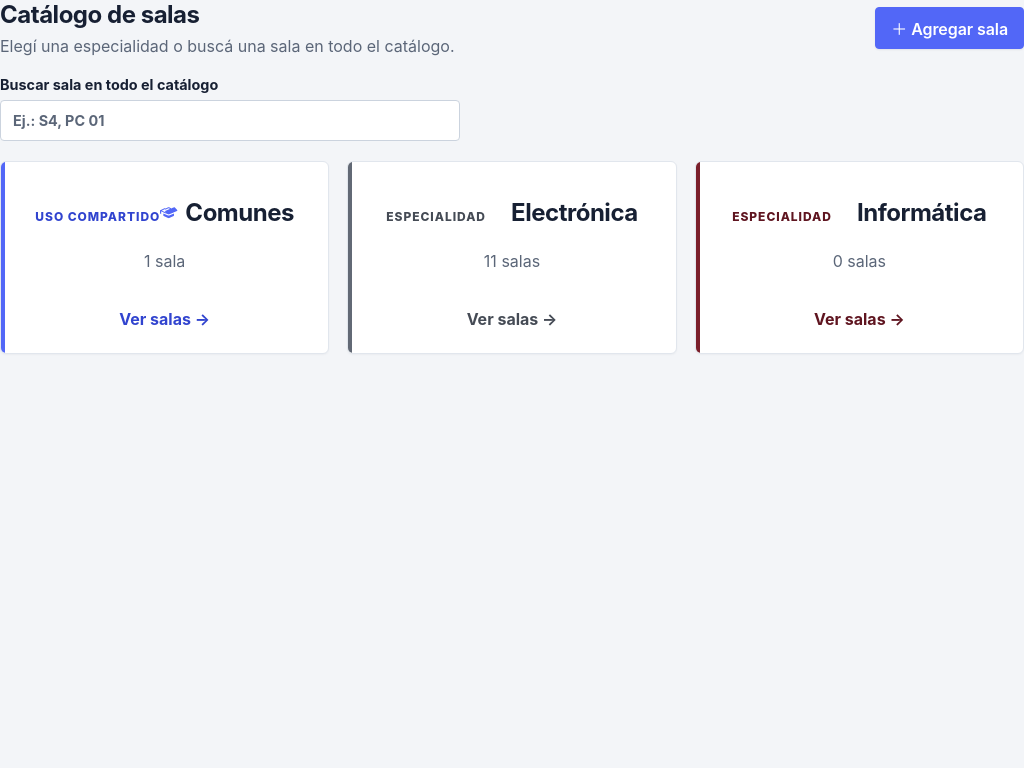
Test case: busca globalmente y abre el grupo de una coincidencia
The width and height of the screenshot is (1024, 768).
Click the button "Especialidad Electrónica 11 salas Ver salas →" at (512, 258), box [347, 161, 677, 354]
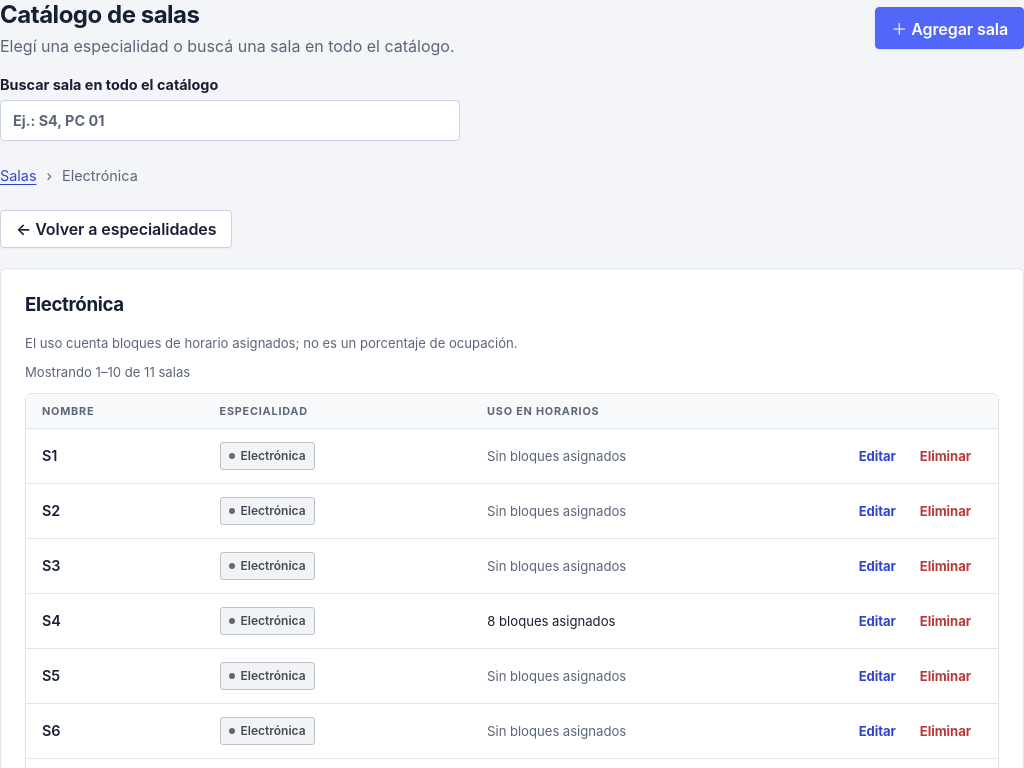
Type "pc 01" into the search field at (230, 120), box [0, 100, 460, 141]
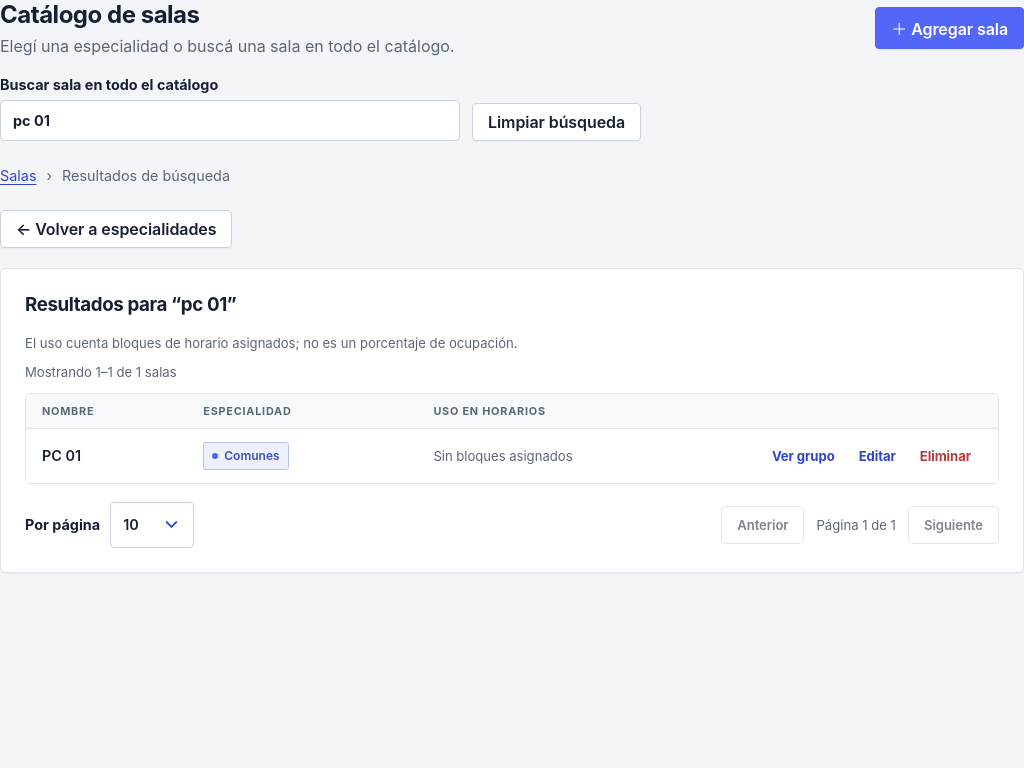
Expected: the column heading "PC 01" is shown, [26, 429, 187, 483]
Click the button with aria-label "Ver grupo de PC 01" at (803, 456), box [761, 440, 846, 472]
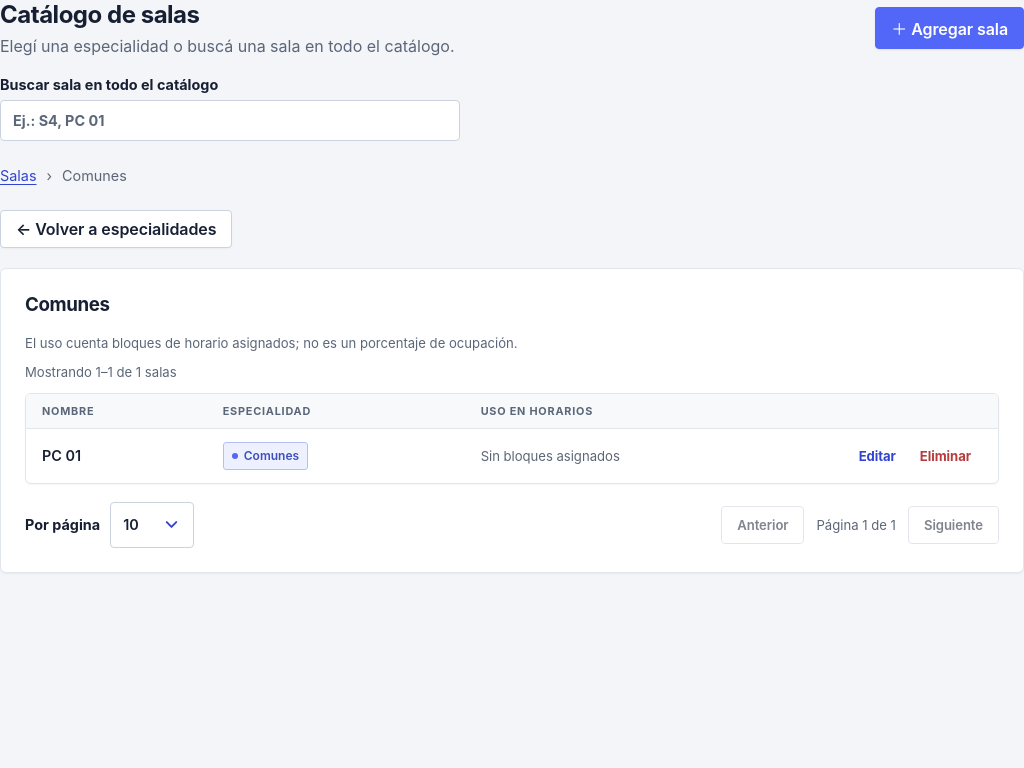
Expected: the navigation bar named "Ubicación en salas" shows "Comunes", [62, 167, 127, 184]
Type "no existe" into the search field at (230, 120), box [0, 100, 460, 141]
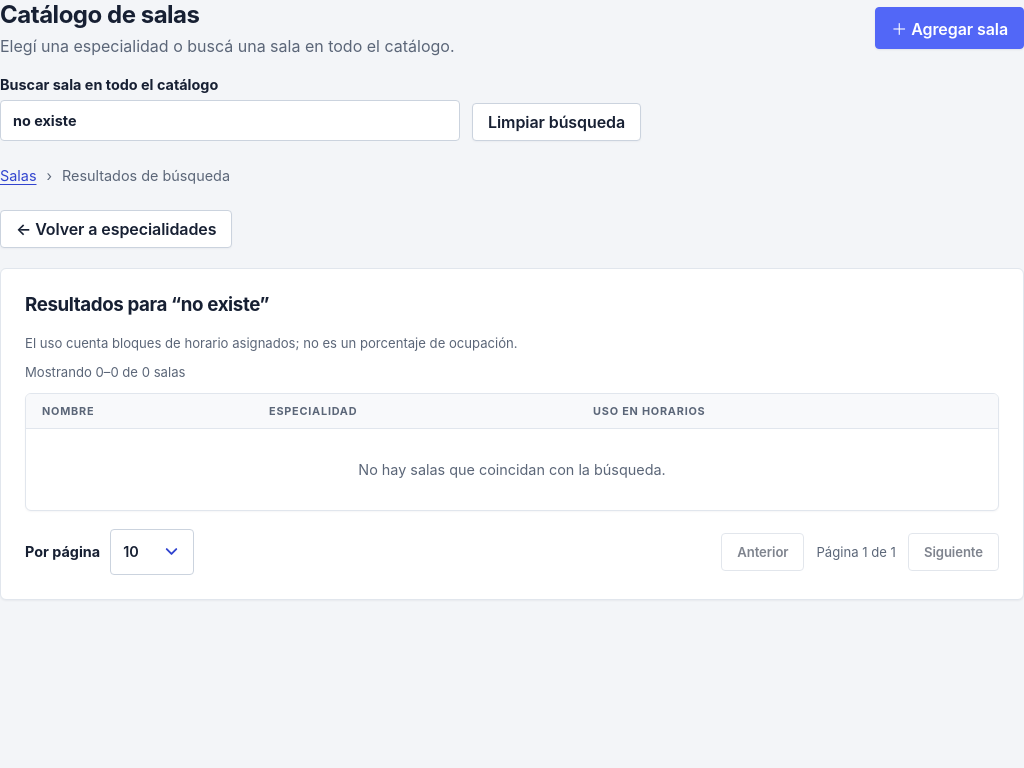
Expected: the text "No hay salas que coincidan con la búsqueda." is shown, [26, 429, 998, 510]
